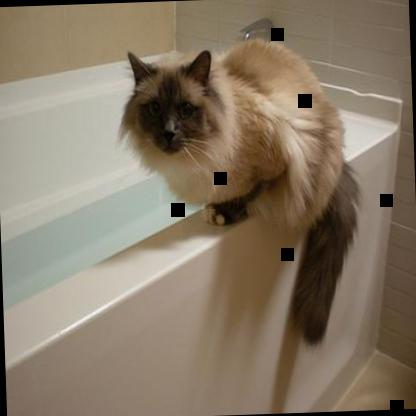cat: (120, 36, 361, 353)
